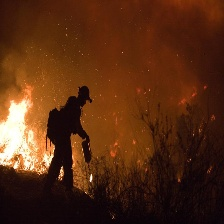fire: (1, 88, 54, 174)
smoke: (7, 7, 214, 92)
